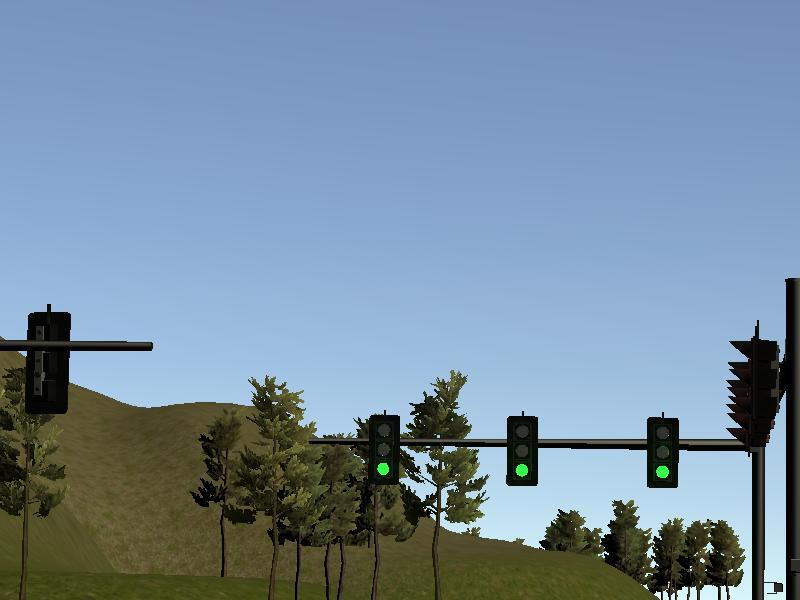Green: (506, 415, 536, 486), (369, 414, 398, 483), (648, 419, 675, 488)
